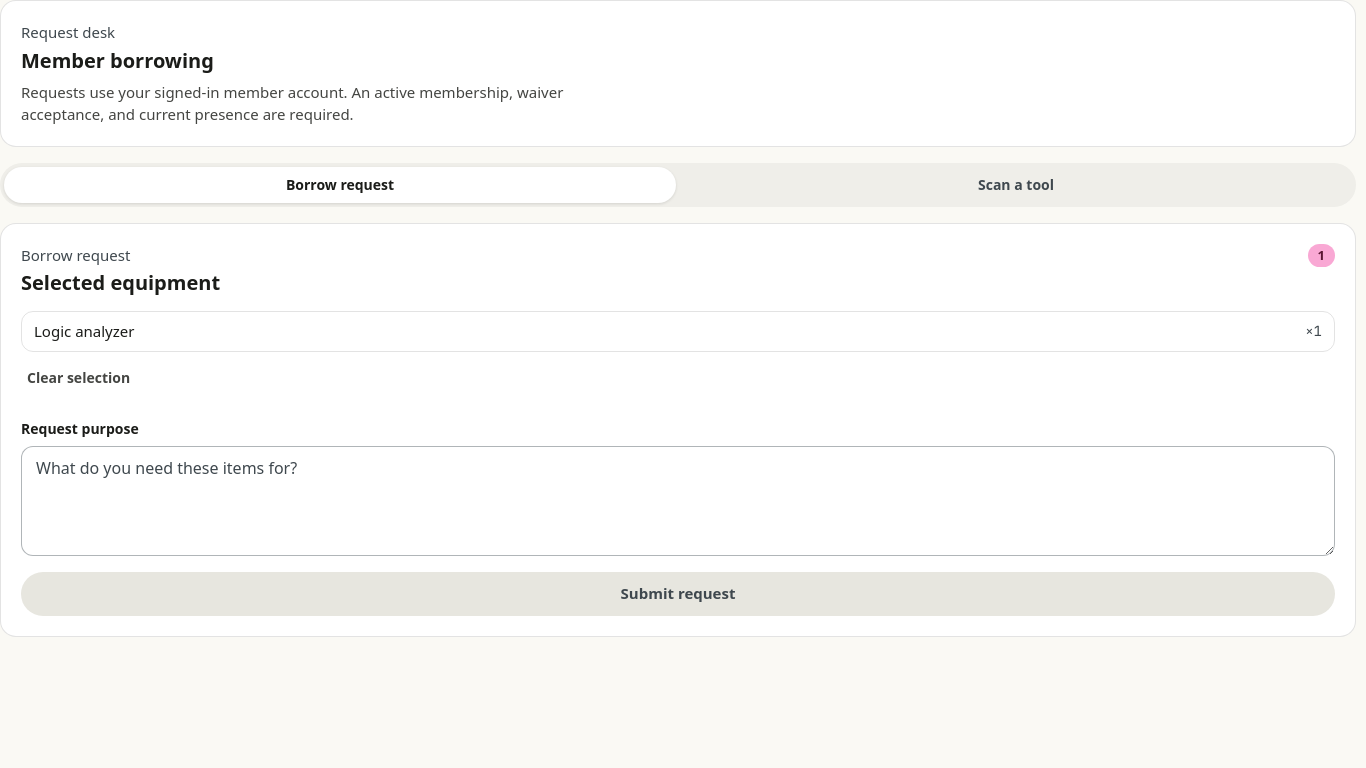
Test: account-less borrow requests › keeps the member scan tab on a members space with self-checkout on
The width and height of the screenshot is (1366, 768).
Expected: the heading "Member borrowing" is shown, x1=21 y1=46 x2=214 y2=74
Click the button "Scan a tool": (1016, 184) x1=680 y1=166 x2=1352 y2=202
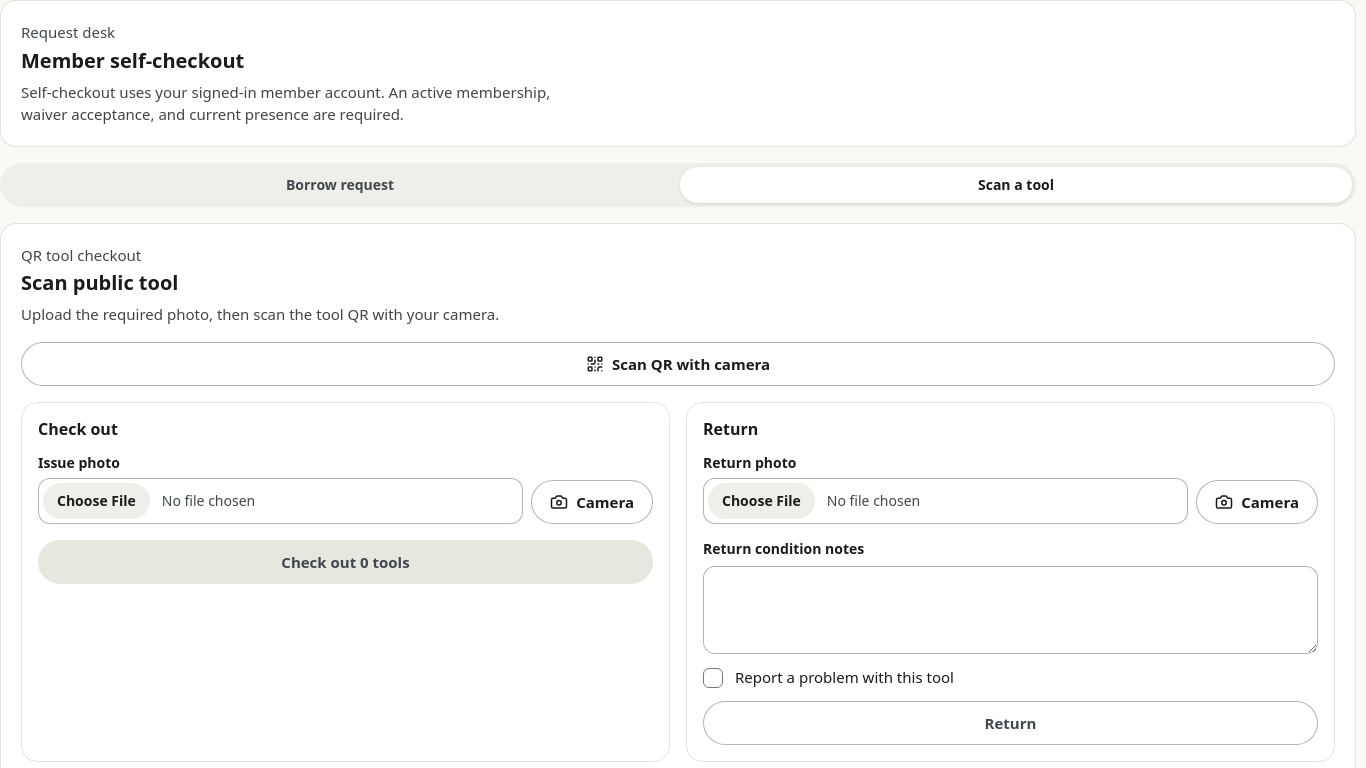
Result: the heading "Member self-checkout" is shown at x1=21 y1=46 x2=244 y2=74
